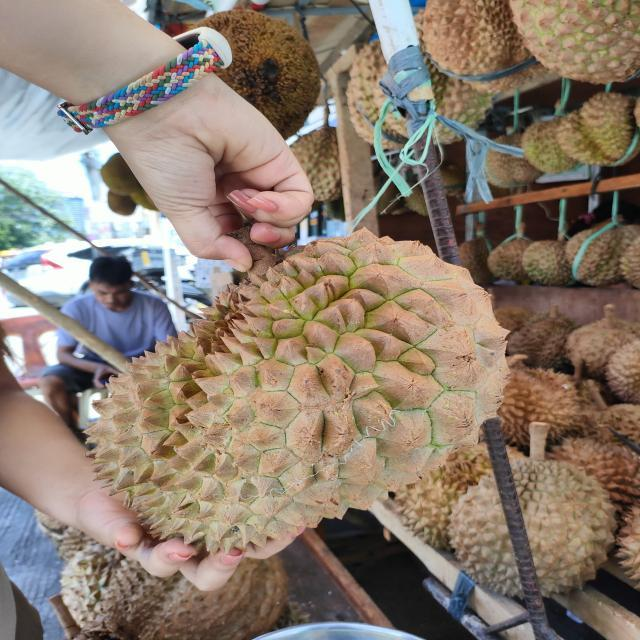mature: (83, 227, 511, 563)
